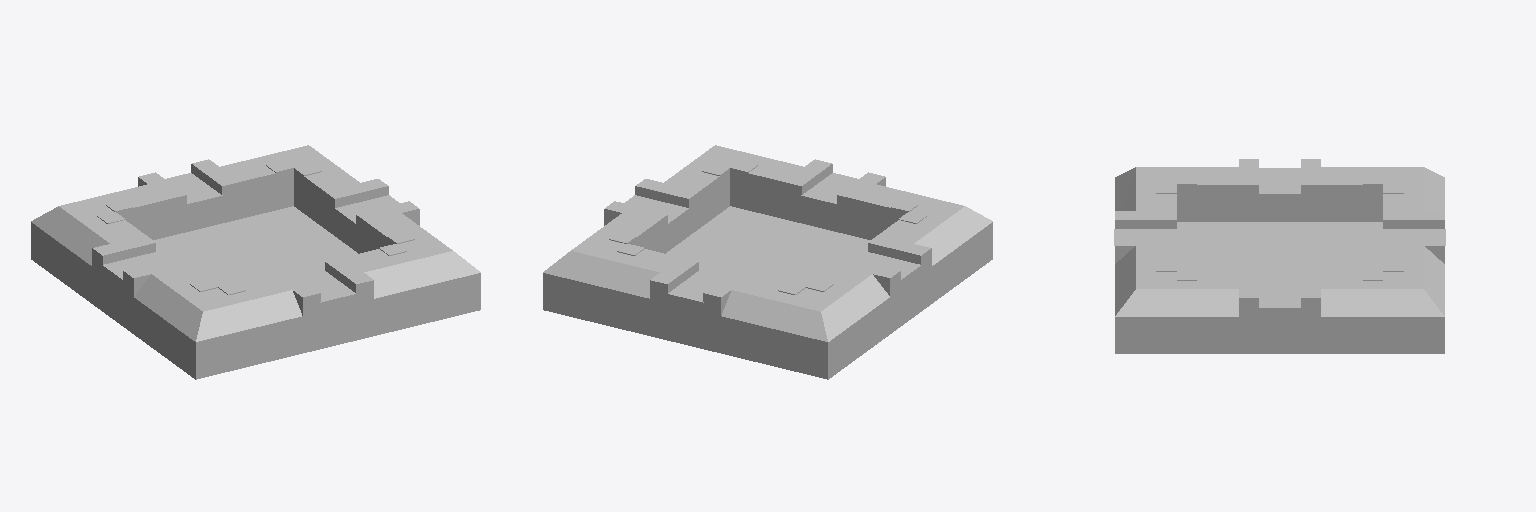
The model's file is modelPlateProgrammer.obj.
3 renders of one model, left to right at view 1: azimuth 30°, elevation 25°; view 2: azimuth 150°, elevation 25°; view 3: azimuth 270°, elevation 25°, orthographic.
Parts seen in each view (by area): view 1: plate, Active_Centre, Active_North, Active_South, Active_East, Active_West; view 2: plate, Active_Centre, Active_South, Active_North, Active_East, Active_West; view 3: plate, Active_Centre, Active_East, Active_West.
Boxes of the visible parts, x1=… form: plate: x1=31, y1=145, x2=480, y2=379; Active_Centre: x1=153, y1=206, x2=357, y2=286; Active_North: x1=165, y1=173, x2=222, y2=203; Active_South: x1=299, y1=271, x2=355, y2=302; Active_East: x1=335, y1=195, x2=398, y2=223; Active_West: x1=103, y1=252, x2=166, y2=279; plate: x1=543, y1=145, x2=992, y2=379; Active_Centre: x1=666, y1=206, x2=870, y2=286; Active_South: x1=801, y1=173, x2=858, y2=203; Active_North: x1=668, y1=271, x2=724, y2=302; Active_East: x1=625, y1=195, x2=688, y2=223; Active_West: x1=857, y1=252, x2=920, y2=279; plate: x1=1115, y1=159, x2=1444, y2=353; Active_Centre: x1=1177, y1=222, x2=1382, y2=280; Active_East: x1=1259, y1=281, x2=1300, y2=307; Active_West: x1=1259, y1=168, x2=1300, y2=193.
Bounding box in the file's own units: 16.05 × 3.05 × 16.05.